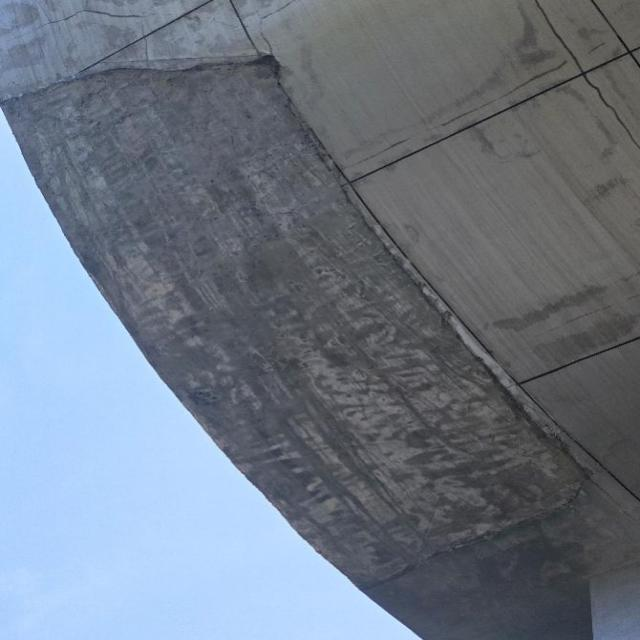crack: (358, 469, 604, 595), (7, 42, 287, 117), (8, 3, 313, 66), (530, 0, 637, 156)
mildew: (6, 69, 639, 639)
